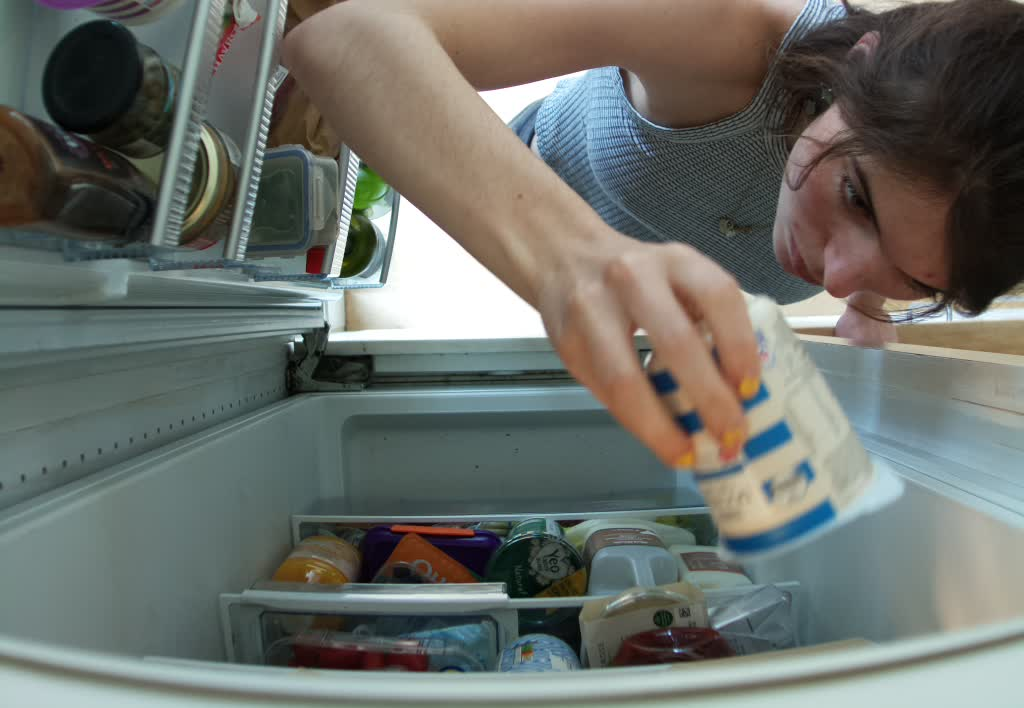cream: (640, 298, 908, 561)
